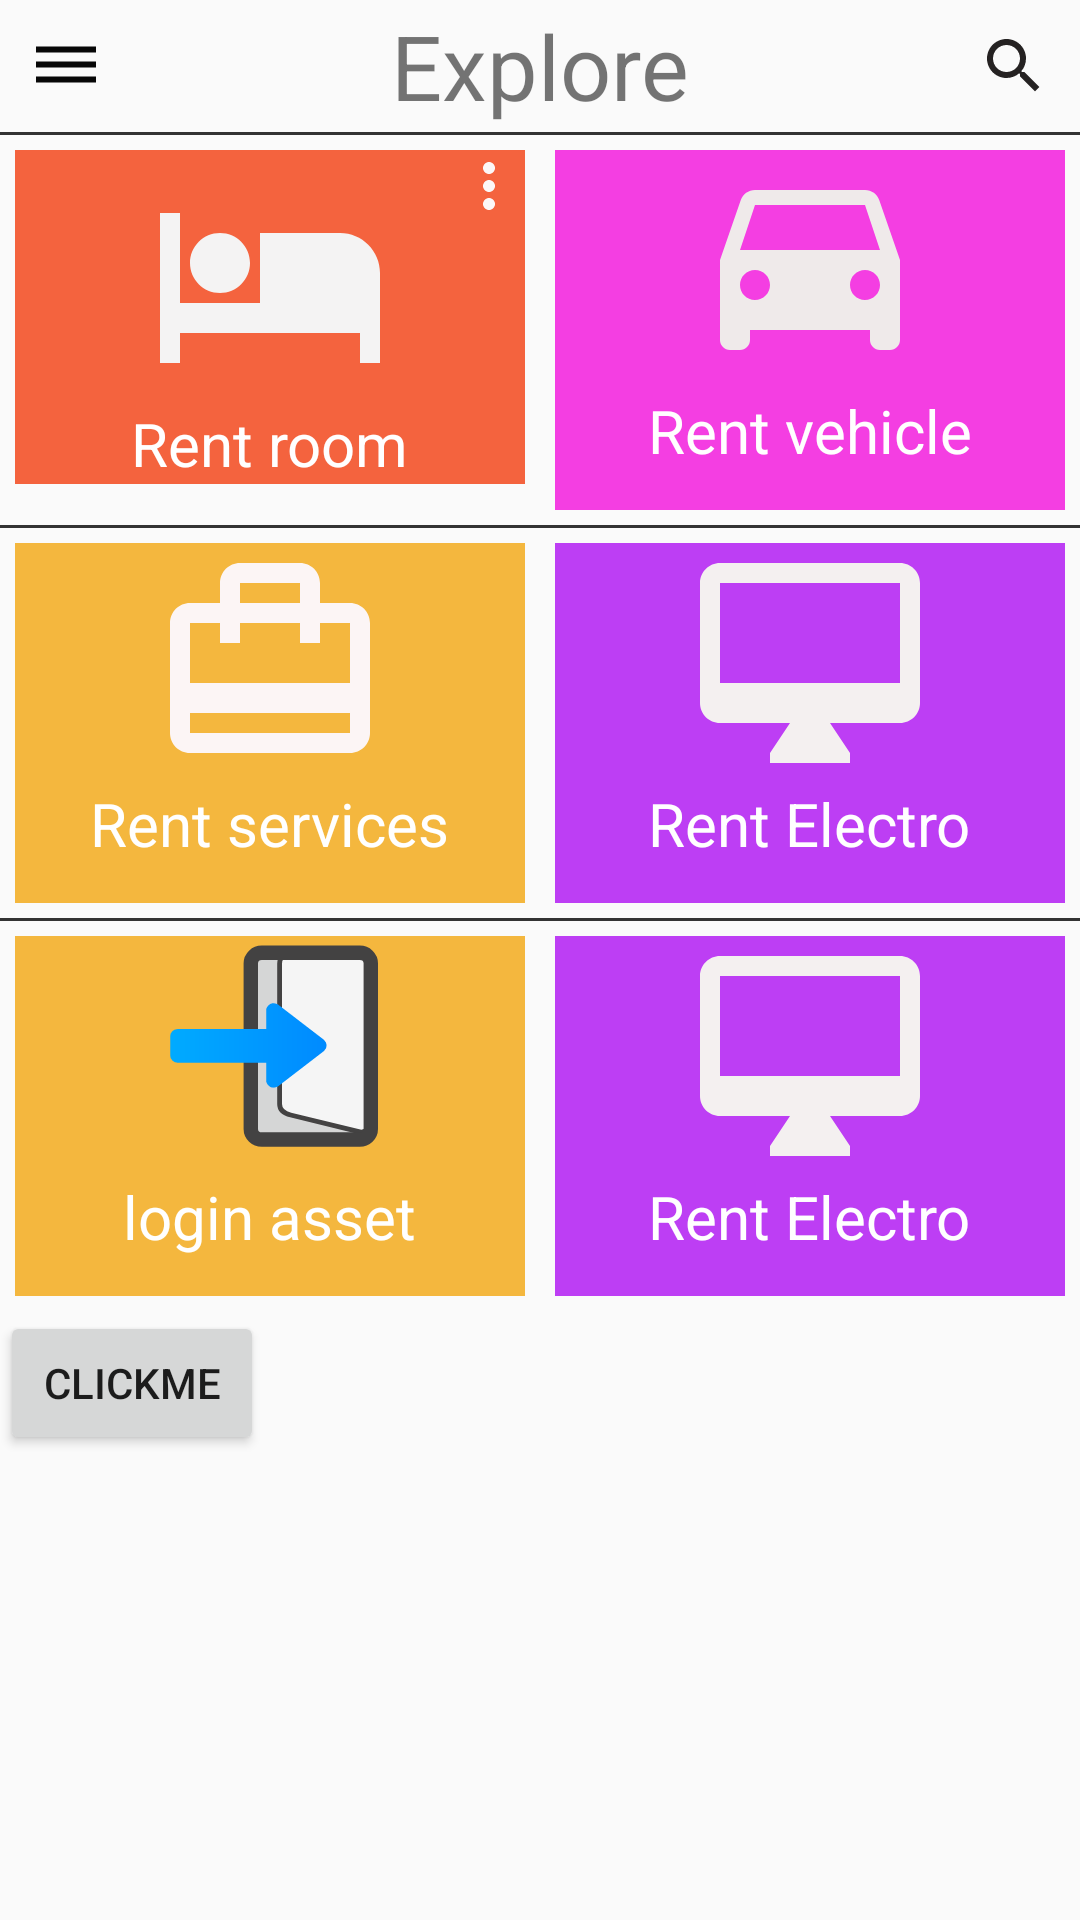

Point at icon controls on the screen. Image size 1080*1920, points as (x,y).
card travel: (270,658)
dehaze: (66,64)
desktop mac: (810,663), (810,1056)
drive eta: (810,270)
hotel: (270,288)
more vert: (489,186)
search: (1013,65)
